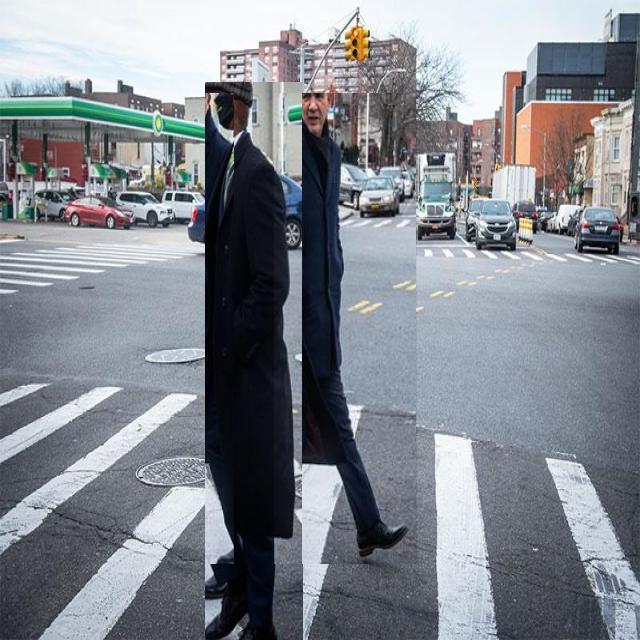without scooter: (275, 93, 418, 564), (205, 82, 303, 640)
